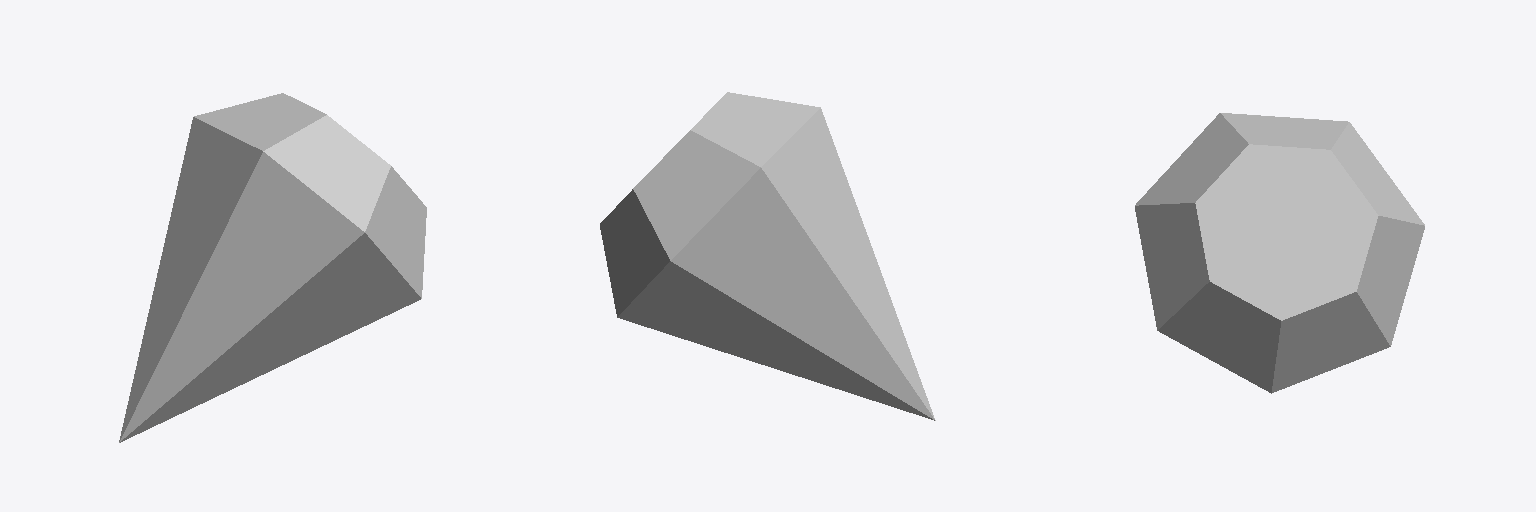
The model's file is magicWand_stick5_left.obj.
The picture shows the model from 3 angles: view 1: azimuth 30°, elevation 25°; view 2: azimuth 150°, elevation 25°; view 3: azimuth 270°, elevation 25°; orthographic projection.
Visible parts, largest first — view 1: magicWand_stick5_left; view 2: magicWand_stick5_left; view 3: magicWand_stick5_left.
Part boxes in pixels (x1,y1,x2,y2): magicWand_stick5_left: (119, 93, 426, 442); magicWand_stick5_left: (600, 92, 935, 420); magicWand_stick5_left: (1135, 113, 1424, 393).
Size of the model in its own units: 0.0639 by 0.0556 by 0.0528.